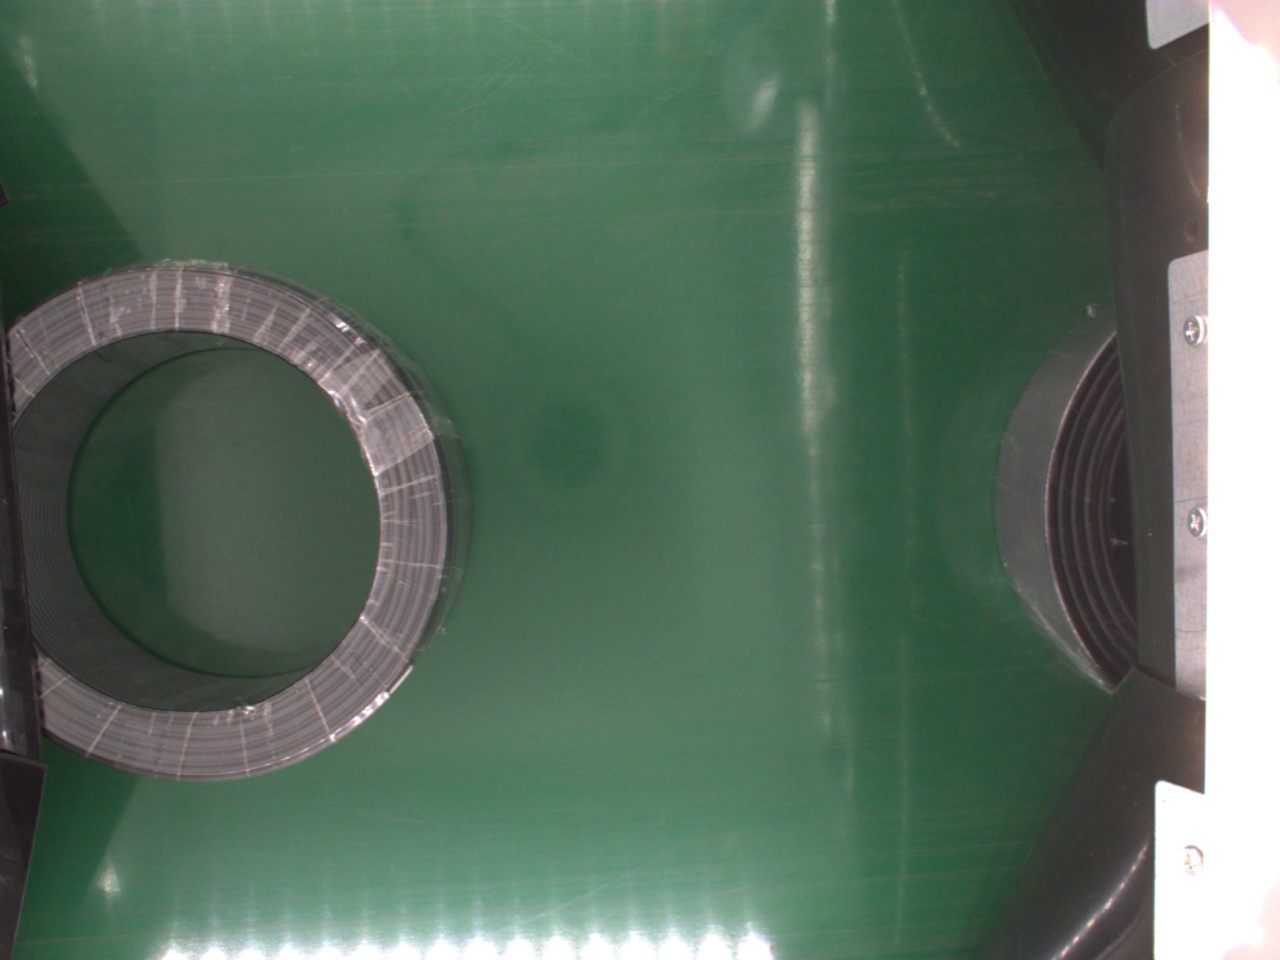black: (12, 263, 475, 779), (992, 312, 1135, 694)
